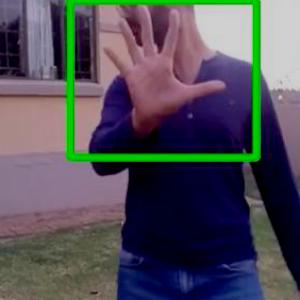follow_hand: (96, 1, 228, 121)
